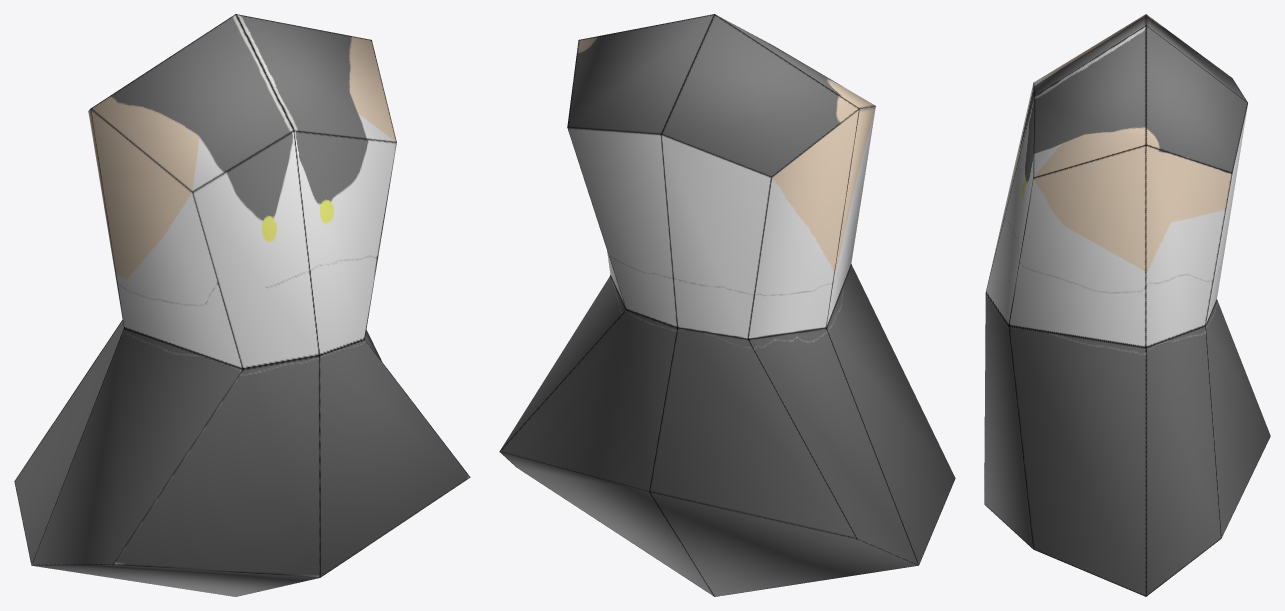
The model's file is playerBody.obj.
3 renders of one model, left to right at view 1: azimuth 30°, elevation 25°; view 2: azimuth 150°, elevation 25°; view 3: azimuth 270°, elevation 25°, orthographic. The views are drawn at different scales.
Visible parts, largest first — view 1: 体; view 2: 体; view 3: 体.
Part boxes in pixels (<box>): 体: <box>14,14,470,596</box>; 体: <box>499,14,955,596</box>; 体: <box>984,14,1270,596</box>.
Bounding box in the file's own units: 0.6059 × 0.8383 × 0.391.
1 material, 1 textured.
